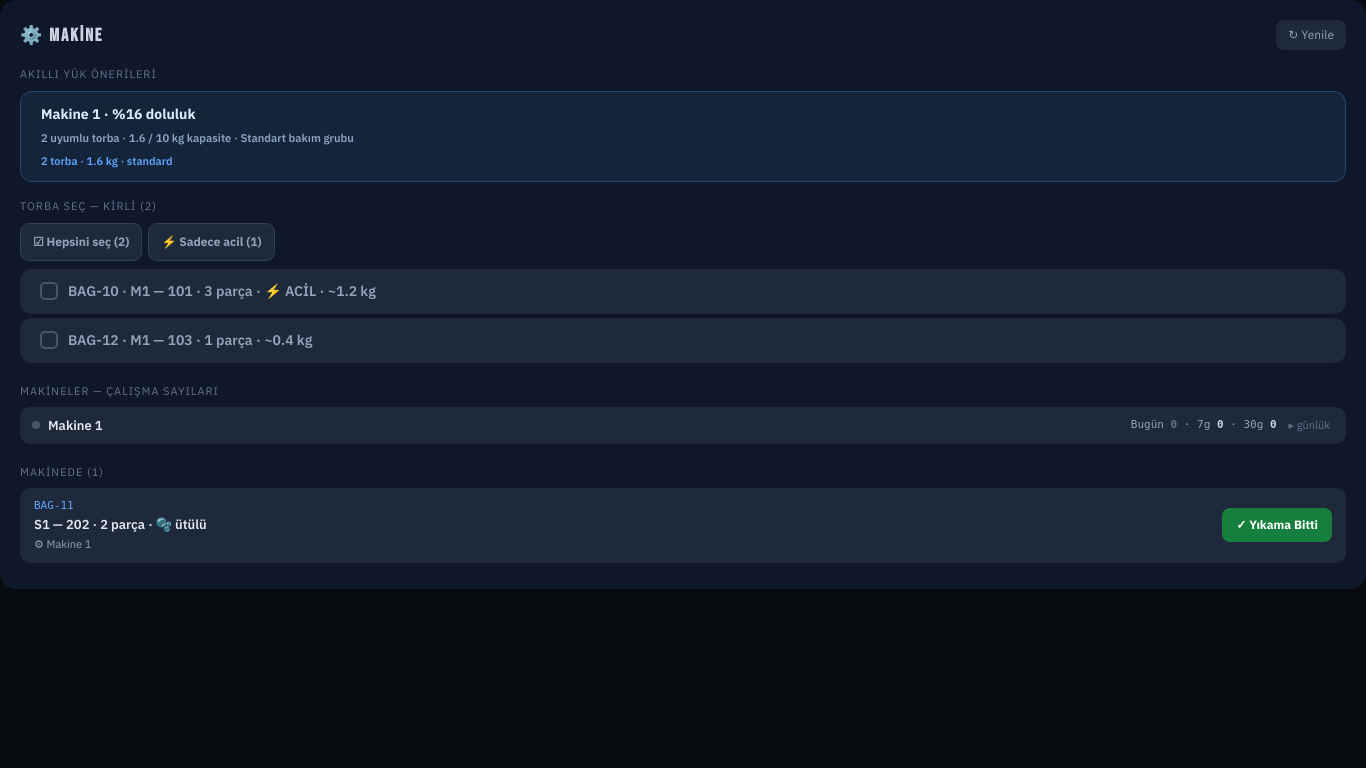
Scenario: MachineView smoke › çoklu seçim: 2 torba seç → batch-assign item_ids + timer_minutes gönderir
The image size is (1366, 768).
Expected: the text "BAG-10 · M1 — 101 · 3 parça · ⚡ ACİL · ~1.2 kg" is shown, [68,281,376,302]
Click the button "BAG-10 · M1 — 101 · 3 parça · ⚡ ACİL · ~1.2 kg": (99, 291) [20,269,1346,314]
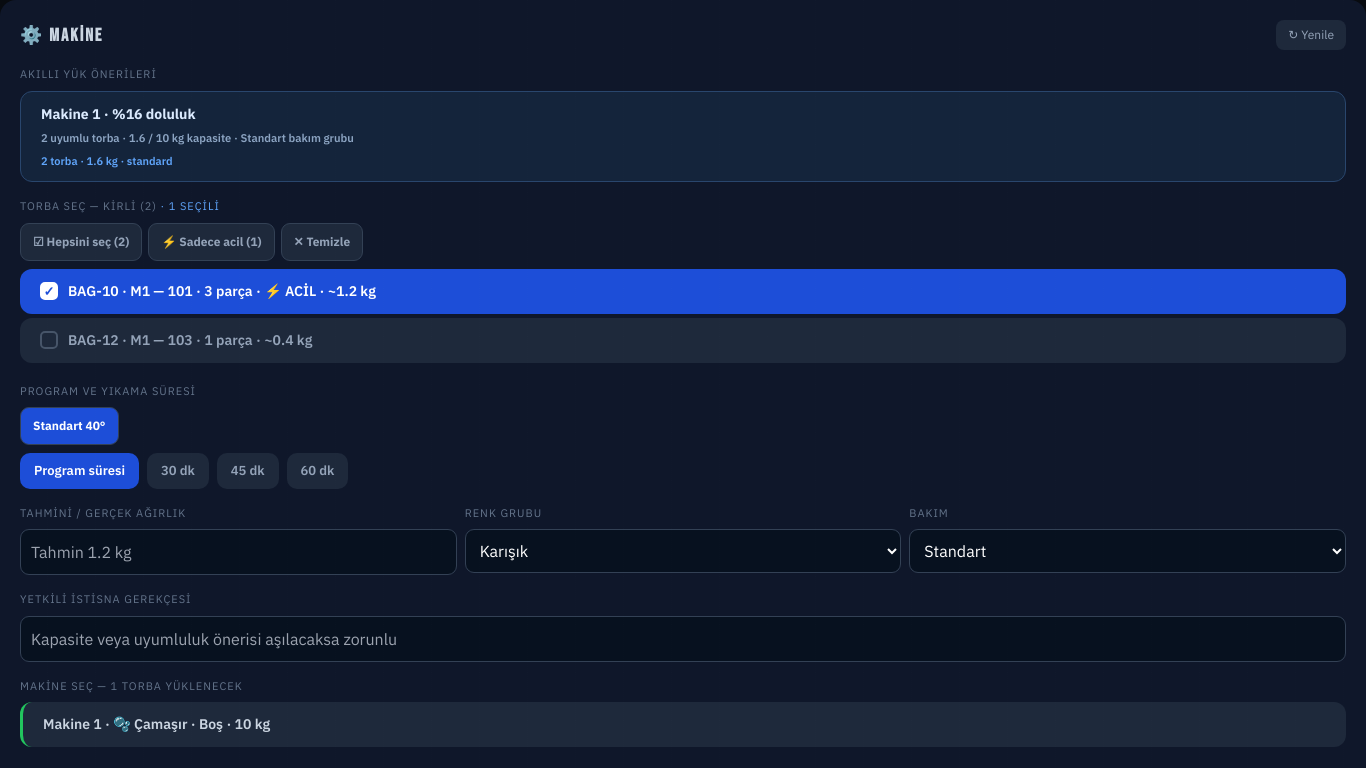
Click the button "BAG-12 · M1 — 103 · 1 parça · ~0.4 kg": (99, 340) [20,318,1346,363]
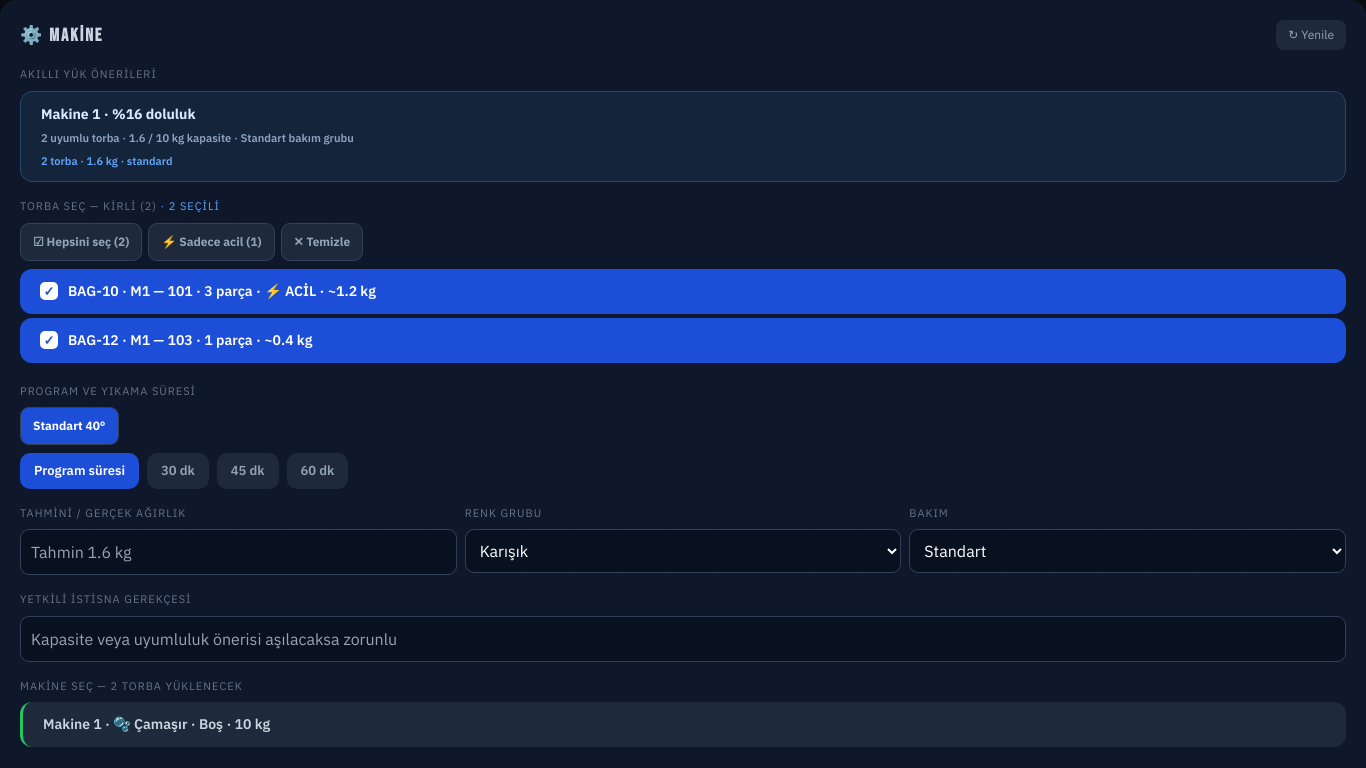
Result: the text "· 2 seçili" is shown at [157,199,220,213]
Click the button "45 dk": (248, 471) [217,453,279,489]
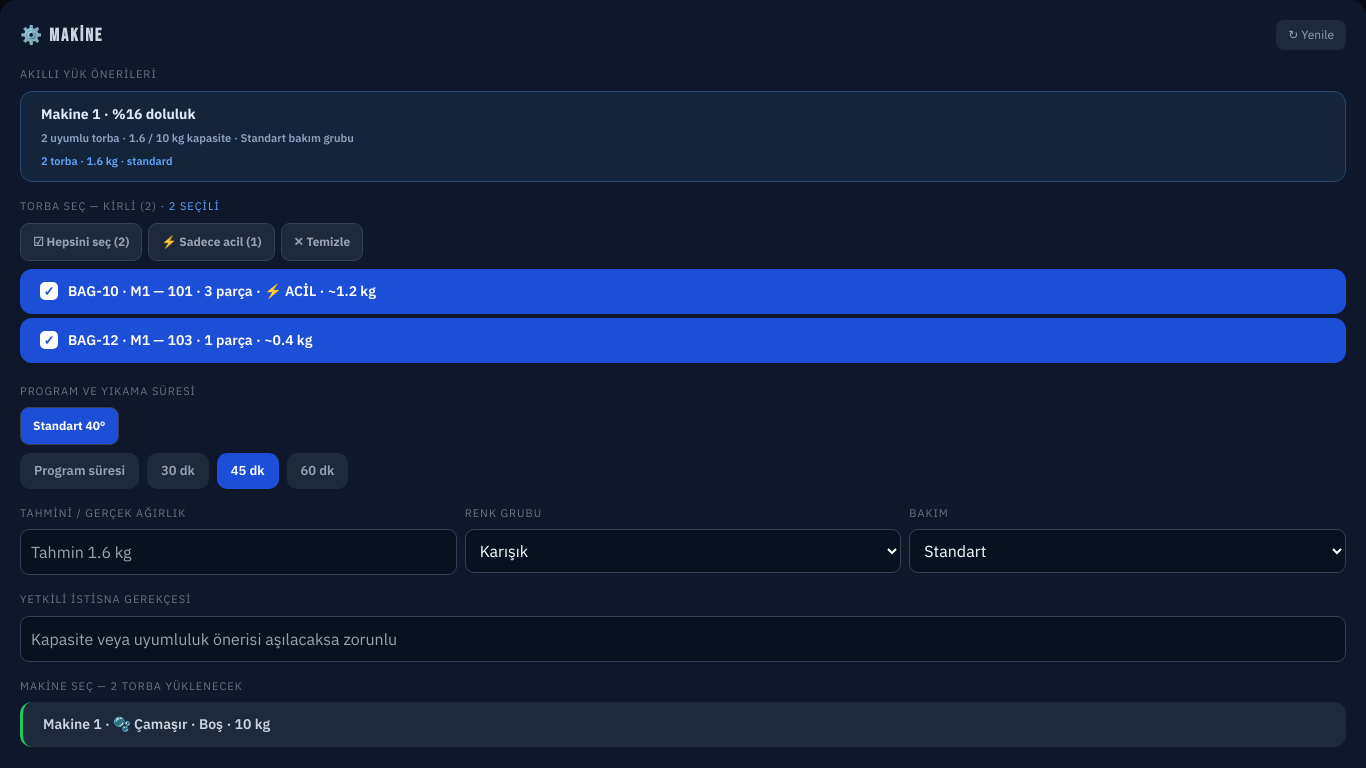
Click the button "Makine 1 · 🫧 Çamaşır · Boş · 10 kg": (72, 724) [20,702,1346,747]
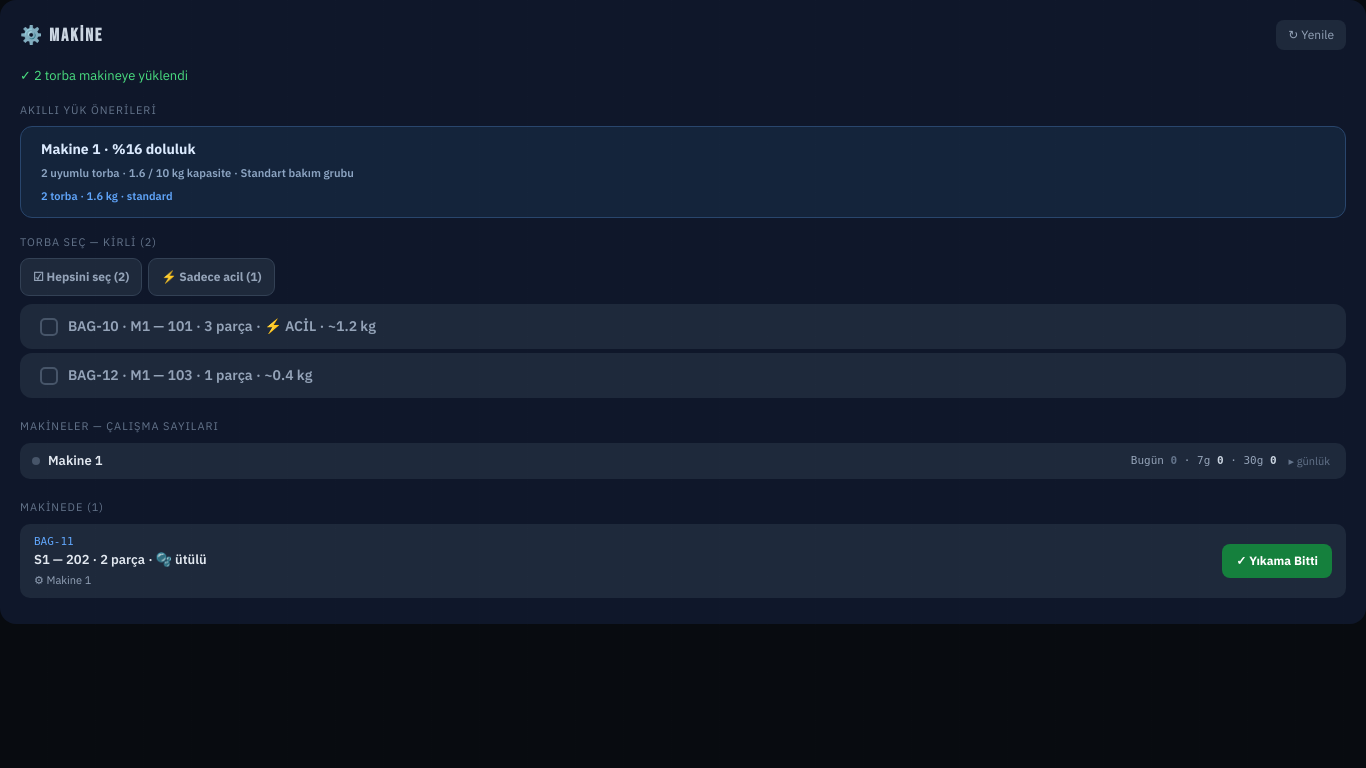
Result: the text "✓ 2 torba makineye yüklendi" is shown at [20,67,188,84]
